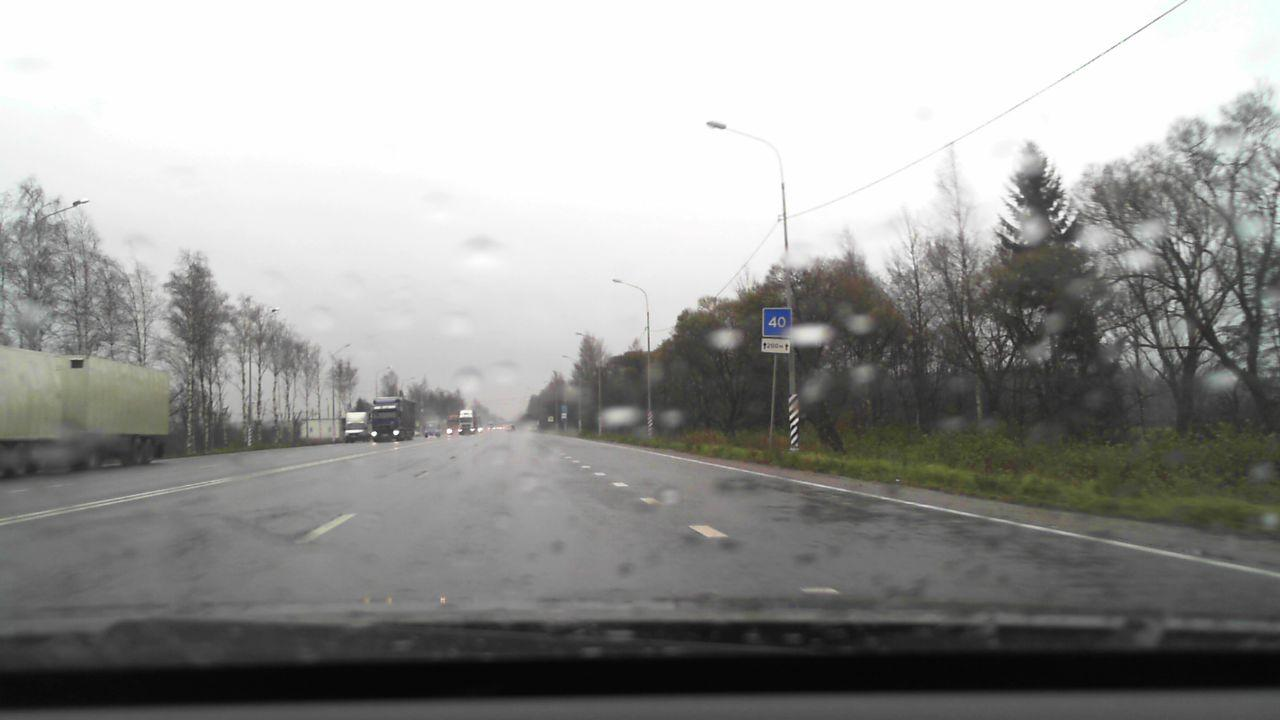6_2: (762, 307, 792, 337)
8_2_1: (760, 337, 792, 352)
